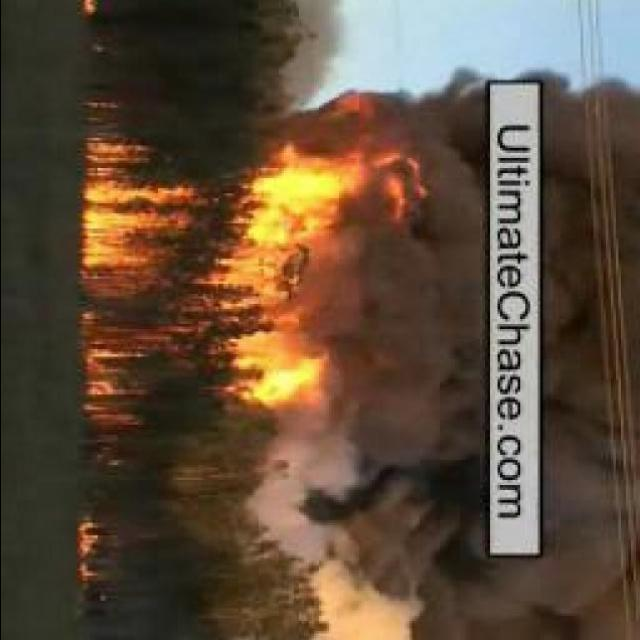Fire: (81, 113, 431, 417), (81, 514, 106, 600)
